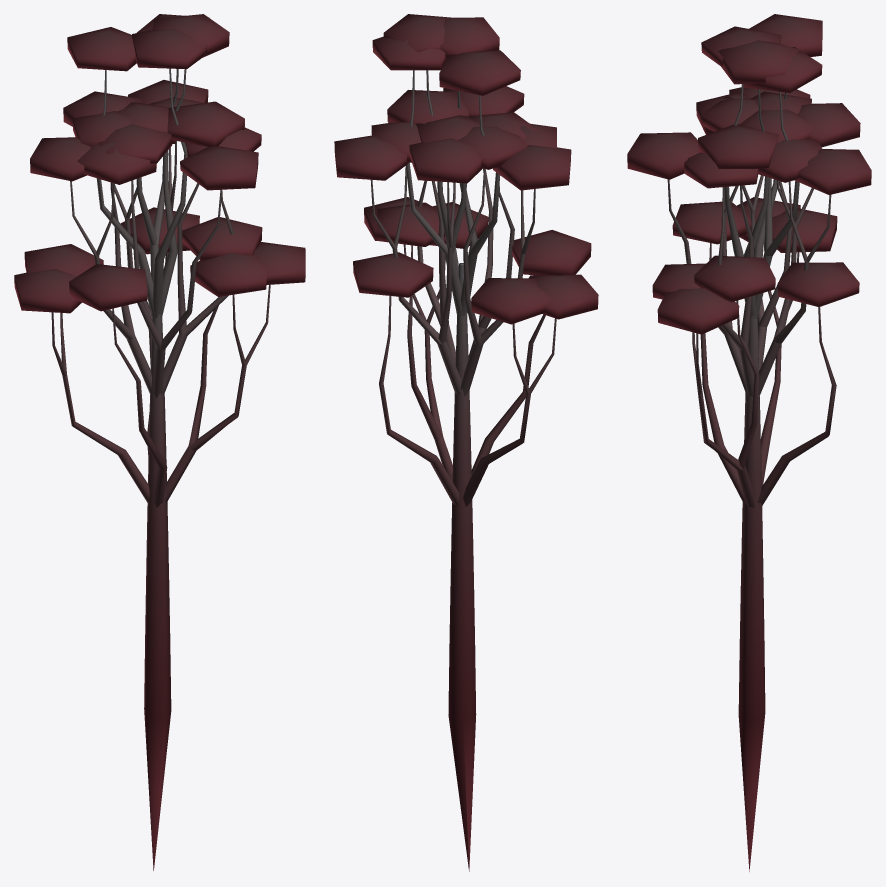
File: plants-trees-palms-tiered-red-tree_v4.fbx
3 renders of one model, left to right at view 1: azimuth 30°, elevation 25°; view 2: azimuth 150°, elevation 25°; view 3: azimuth 270°, elevation 25°, orthographic.
Visible parts, largest first — view 1: Tiered Red Tree_v4; view 2: Tiered Red Tree_v4; view 3: Tiered Red Tree_v4.
Boxes of the visible parts, left/top/right/bottom form: Tiered Red Tree_v4: left=14, top=14, right=305, bottom=870; Tiered Red Tree_v4: left=334, top=14, right=598, bottom=871; Tiered Red Tree_v4: left=627, top=14, right=871, bottom=871.
Bounding box in the file's own units: 1.93 × 6 × 1.57.
